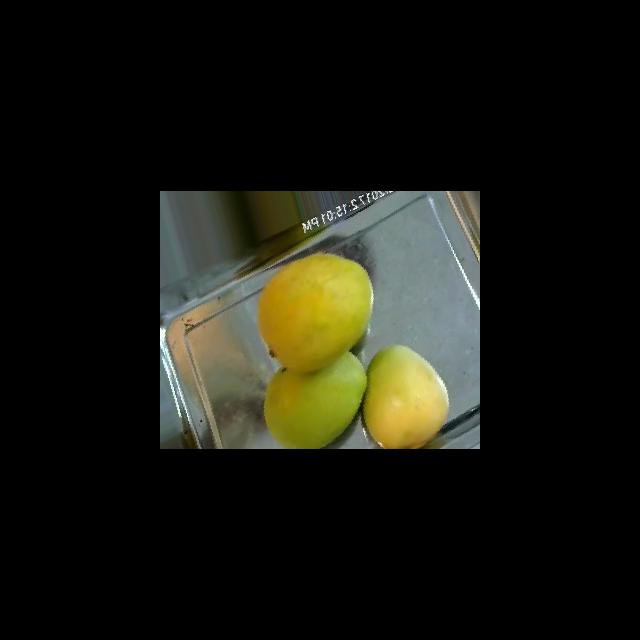mango: (256, 252, 373, 373), (263, 350, 367, 448), (361, 344, 449, 448)
